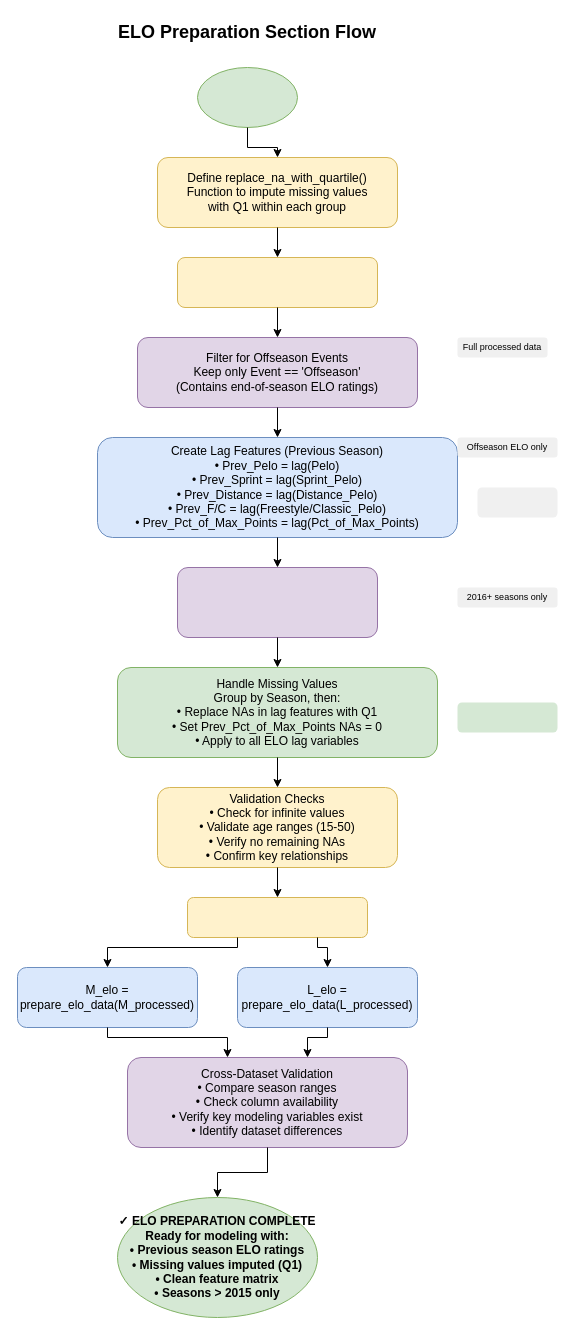
The diagram is 575 pixels wide and 1335 high, and some of its shapes have lost their labels. The box of each missing label's shape, as (x1, y1, x2, y2) in pixels:
+ Previous season ELO features: (477, 487, 557, 517)
Apply Function to Both Datasets: (186, 896, 368, 938)
Define prepare_elo_data() Function for ELO feature preparation: (176, 256, 378, 308)
Filter Seasons > 2015 Remove early seasons with incomplete ELO data: (176, 566, 378, 638)
NAs imputed with Q1 Complete feature matrix: (457, 702, 557, 732)
START Processed Data: (196, 66, 298, 128)
